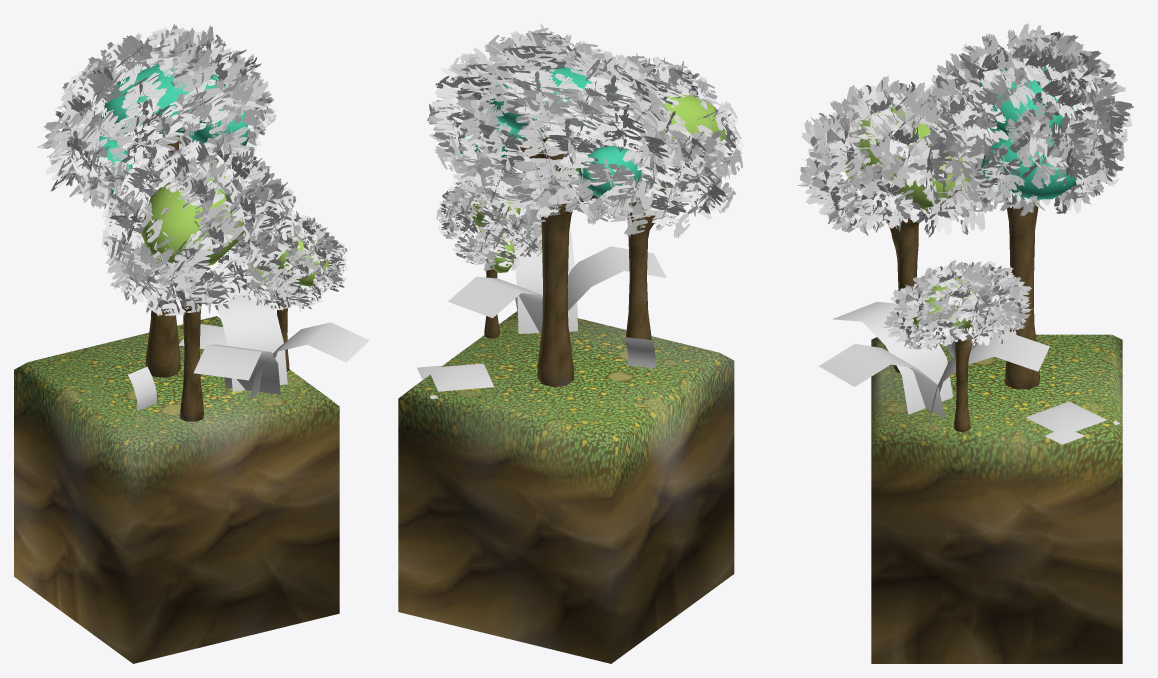
The model's file is BiomeNeutre.fbx.
3 renders of one model, left to right at view 1: azimuth 30°, elevation 25°; view 2: azimuth 150°, elevation 25°; view 3: azimuth 270°, elevation 25°, orthographic. The views are drawn at different scales.
Visible parts, largest first — view 1: NeutreFloor, TreeLargeXl, TreeLarge, FolliageLarge, TreeSmall, Leaves2, Leaves; view 2: NeutreFloor, TreeLargeXl, TreeLarge, FolliageLarge, TreeSmall, Leaves, Leaves2; view 3: NeutreFloor, TreeLargeXl, TreeLarge, TreeSmall, FolliageLarge, Leaves.
Boxes of the visible parts, <box> form: NeutreFloor: <box>14,316,339,663</box>; TreeLargeXl: <box>37,24,276,377</box>; TreeLarge: <box>101,140,296,421</box>; FolliageLarge: <box>193,288,369,401</box>; TreeSmall: <box>221,211,347,371</box>; Leaves2: <box>128,366,156,411</box>; Leaves: <box>179,324,227,348</box>; NeutreFloor: <box>398,311,734,663</box>; TreeLargeXl: <box>427,24,685,387</box>; TreeLarge: <box>571,53,743,345</box>; FolliageLarge: <box>448,227,666,333</box>; TreeSmall: <box>436,173,542,338</box>; Leaves: <box>417,363,493,398</box>; Leaves2: <box>624,337,655,368</box>; NeutreFloor: <box>871,334,1122,663</box>; TreeLargeXl: <box>927,23,1133,389</box>; TreeLarge: <box>797,76,994,372</box>; TreeSmall: <box>883,260,1033,432</box>; FolliageLarge: <box>819,302,1049,421</box>; Leaves: <box>1025,401,1120,444</box>.
Size of the model in its own units: 130 by 258 by 143.
